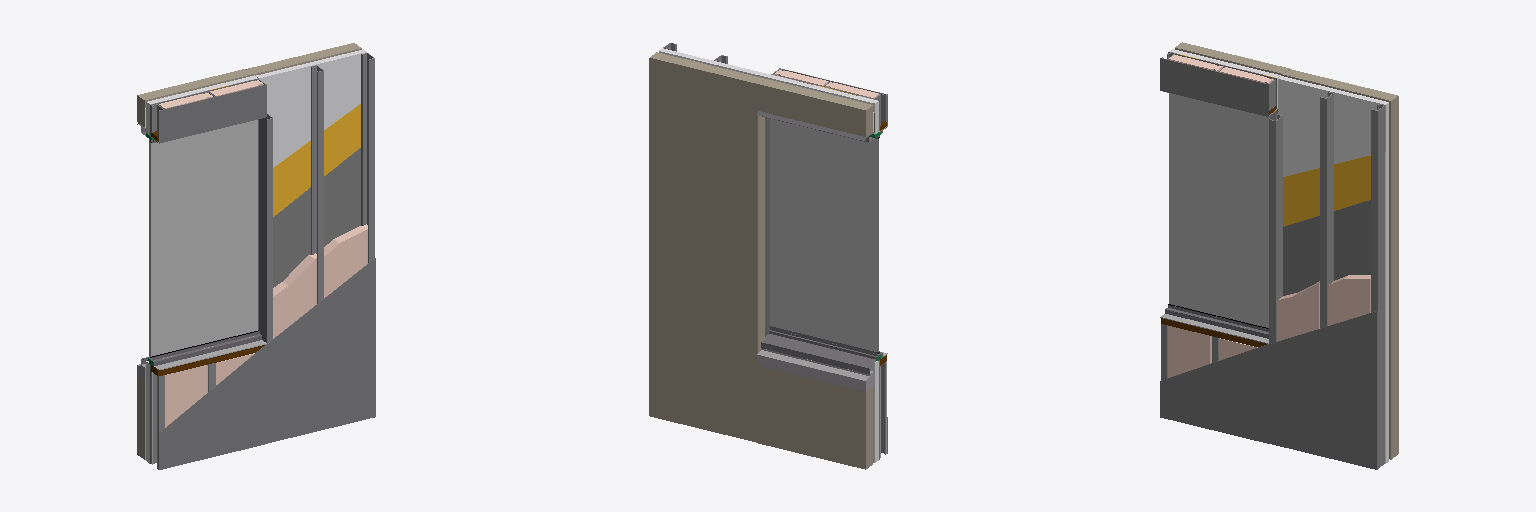
File: WindowCutAway.obj
3 views of the same model, side by side, from view 1: azimuth 30°, elevation 25°; view 2: azimuth 150°, elevation 25°; view 3: azimuth 330°, elevation 25° (orthographic).
Visible parts, largest first — view 1: Layer_5, Layer_4, Layer_1, Layer_3, Layer_6; view 2: Layer_5, Layer_4, Layer_1, Layer_3, Layer_6, Layer_2; view 3: Layer_5, Layer_4, Layer_1, Layer_3.
Boxes of the visible parts, <box> form: Layer_5: <box>246,43,375,443</box>; Layer_4: <box>149,120,257,356</box>; Layer_1: <box>137,330,266,469</box>; Layer_3: <box>137,69,266,143</box>; Layer_6: <box>258,117,266,342</box>; Layer_5: <box>649,43,769,442</box>; Layer_4: <box>770,119,878,351</box>; Layer_1: <box>757,326,887,469</box>; Layer_3: <box>757,68,887,142</box>; Layer_6: <box>765,117,769,336</box>; Layer_2: <box>870,361,878,462</box>; Layer_5: <box>1269,69,1398,469</box>; Layer_4: <box>1169,93,1269,327</box>; Layer_1: <box>1160,304,1268,443</box>; Layer_3: <box>1160,42,1289,116</box>.
Size of the model in its own units: 1.73 by 2.74 by 0.312.